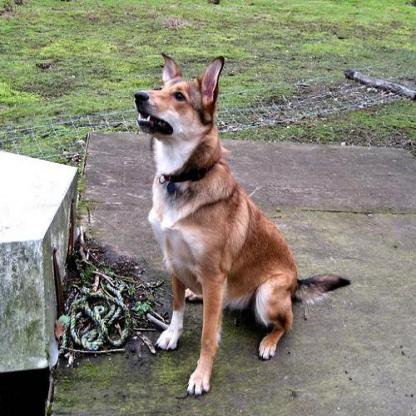kelpie: (131, 44, 347, 388)
